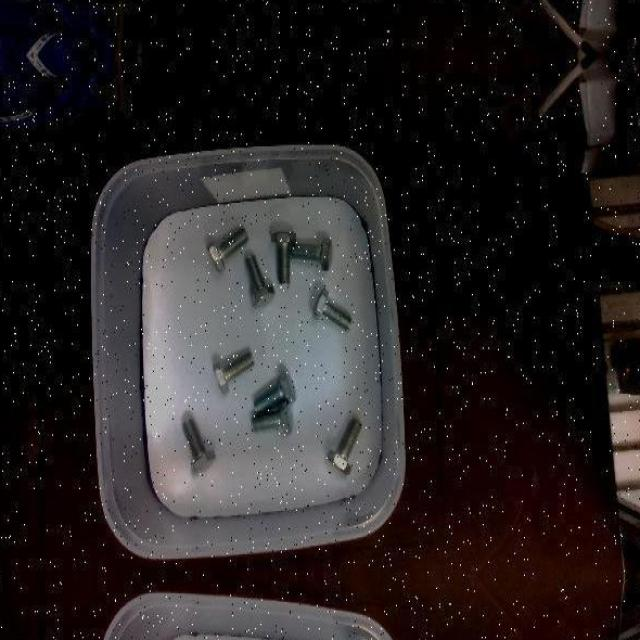screw: (207, 226, 250, 272), (254, 370, 297, 415), (182, 418, 216, 474), (328, 418, 362, 474), (215, 350, 256, 394), (244, 254, 276, 307), (314, 288, 352, 332), (250, 397, 293, 433), (292, 237, 333, 270), (271, 232, 296, 284)
